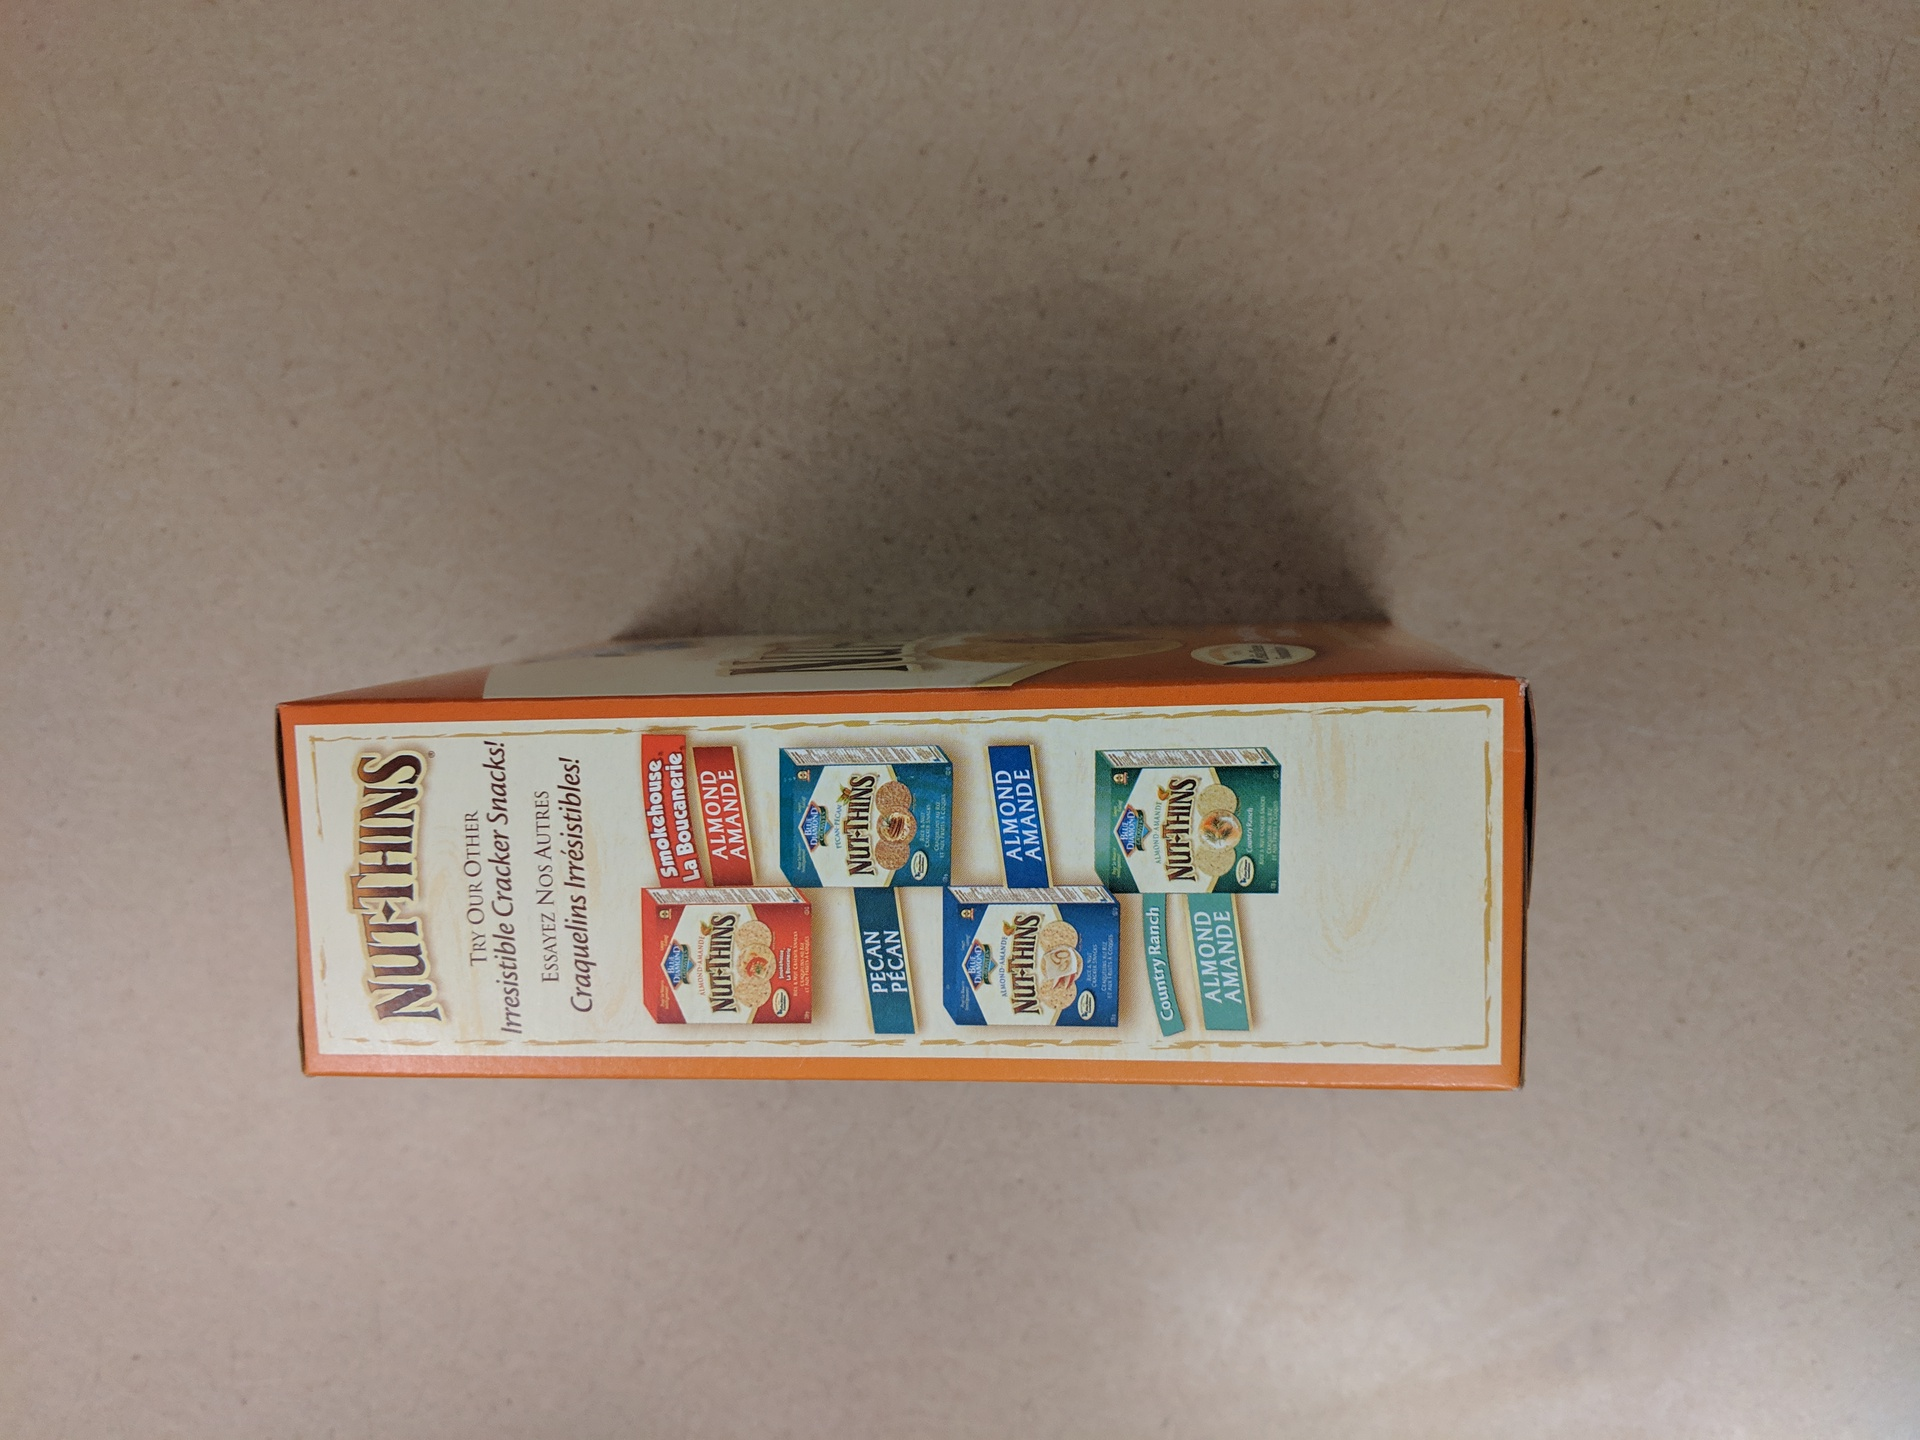blue_diamond_nut_thins_almond_cheddar: (243, 591, 1599, 1139)
